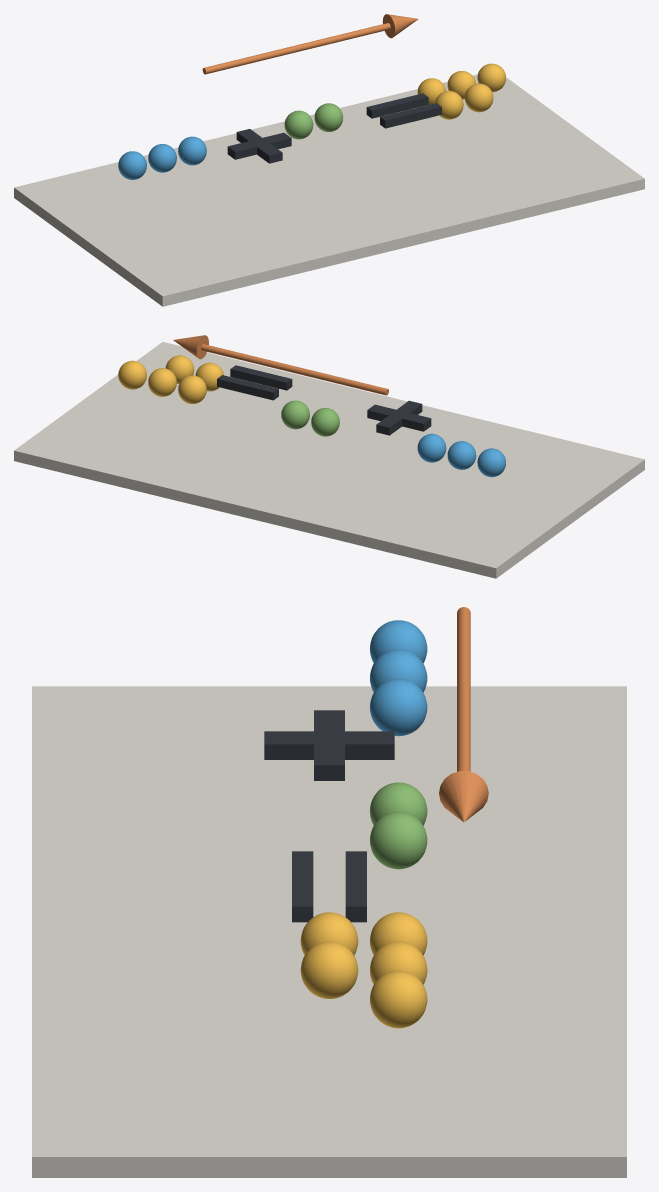
The model's file is math-number-addition.glb.
3 renders of one model, top to bottom at view 1: azimuth 30°, elevation 25°; view 2: azimuth 150°, elevation 25°; view 3: azimuth 270°, elevation 25°, orthographic. The views are drawn at different scales.
Parts seen in each view (by area): view 1: number-sense-base, combine-groups-arrow-shaft, sum-symbol-equal-top, addition-symbol-plus-horizontal, sum-symbol-equal-bottom, addition-symbol-plus-vertical, addend-two-counter-1, addend-three-counter-3, addend-two-counter-2, sum-five-counter-5, addend-three-counter-2, addend-three-counter-1 (+5 smaller); view 2: number-sense-base, combine-groups-arrow-shaft, addition-symbol-plus-horizontal, sum-symbol-equal-bottom, sum-symbol-equal-top, addition-symbol-plus-vertical, sum-five-counter-3, addend-three-counter-2, addend-two-counter-2, sum-five-counter-1, addend-three-counter-1, addend-three-counter-3 (+5 smaller); view 3: number-sense-base, addition-symbol-plus-vertical, sum-five-counter-5, addend-two-counter-2, sum-five-counter-3, addend-three-counter-3, combine-groups-arrow-shaft, addition-symbol-plus-horizontal, combine-groups-arrow-head, sum-five-counter-4, addend-two-counter-1, sum-five-counter-2 (+5 smaller).
Part boxes in pixels (left/top/right/bottom): number-sense-base: left=14, top=74, right=644, bottom=306; combine-groups-arrow-shaft: left=202, top=23, right=390, bottom=74; sum-symbol-equal-top: left=366, top=93, right=428, bottom=118; addition-symbol-plus-horizontal: left=227, top=132, right=291, bottom=159; sum-symbol-equal-bottom: left=380, top=103, right=441, bottom=128; addition-symbol-plus-vertical: left=236, top=129, right=282, bottom=163; addend-two-counter-1: left=284, top=110, right=313, bottom=139; addend-three-counter-3: left=178, top=136, right=206, bottom=165; addend-two-counter-2: left=314, top=103, right=343, bottom=131; sum-five-counter-5: left=464, top=83, right=493, bottom=112; addend-three-counter-2: left=148, top=144, right=176, bottom=172; addend-three-counter-1: left=118, top=151, right=146, bottom=179; number-sense-base: left=14, top=342, right=644, bottom=578; combine-groups-arrow-shaft: left=201, top=344, right=388, bottom=395; addition-symbol-plus-horizontal: left=367, top=404, right=431, bottom=431; sum-symbol-equal-bottom: left=230, top=365, right=292, bottom=390; sum-symbol-equal-top: left=217, top=375, right=278, bottom=400; addition-symbol-plus-vertical: left=376, top=400, right=422, bottom=435; sum-five-counter-3: left=118, top=360, right=146, bottom=389; addend-three-counter-2: left=447, top=441, right=476, bottom=469; addend-two-counter-2: left=281, top=400, right=309, bottom=429; sum-five-counter-1: left=178, top=375, right=206, bottom=403; addend-three-counter-1: left=477, top=448, right=505, bottom=477; addend-three-counter-3: left=417, top=433, right=446, bottom=462; number-sense-base: left=32, top=686, right=626, bottom=1177; addition-symbol-plus-vertical: left=264, top=731, right=394, bottom=759; sum-five-counter-5: left=300, top=941, right=358, bottom=998; addend-two-counter-2: left=370, top=811, right=427, bottom=869; sum-five-counter-3: left=370, top=970, right=427, bottom=1028; addend-three-counter-3: left=370, top=678, right=427, bottom=736; combine-groups-arrow-shaft: left=457, top=607, right=470, bottom=771; addition-symbol-plus-horizontal: left=314, top=710, right=344, bottom=780; combine-groups-arrow-head: left=439, top=771, right=488, bottom=822; sum-five-counter-4: left=300, top=912, right=358, bottom=955; addend-two-counter-1: left=369, top=782, right=427, bottom=825; sum-five-counter-2: left=369, top=941, right=427, bottom=984.
Size of what is drawn, in the model's own units: 2.9 by 0.754 by 1.55.
